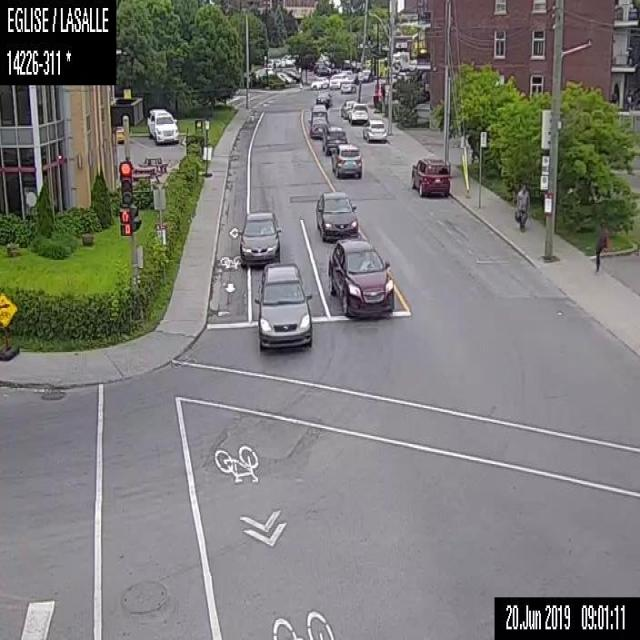pedestrian: (514, 184, 530, 232), (594, 220, 606, 271)
vehicle: (328, 238, 394, 316), (257, 262, 312, 346), (240, 210, 282, 262), (314, 190, 358, 238), (409, 154, 451, 194), (145, 107, 179, 143), (329, 144, 362, 178), (320, 125, 345, 154), (362, 116, 387, 142), (307, 114, 328, 136), (347, 102, 368, 121), (340, 99, 356, 119), (310, 74, 328, 89), (316, 91, 334, 106), (329, 73, 346, 87), (339, 79, 356, 92), (359, 69, 372, 82)
